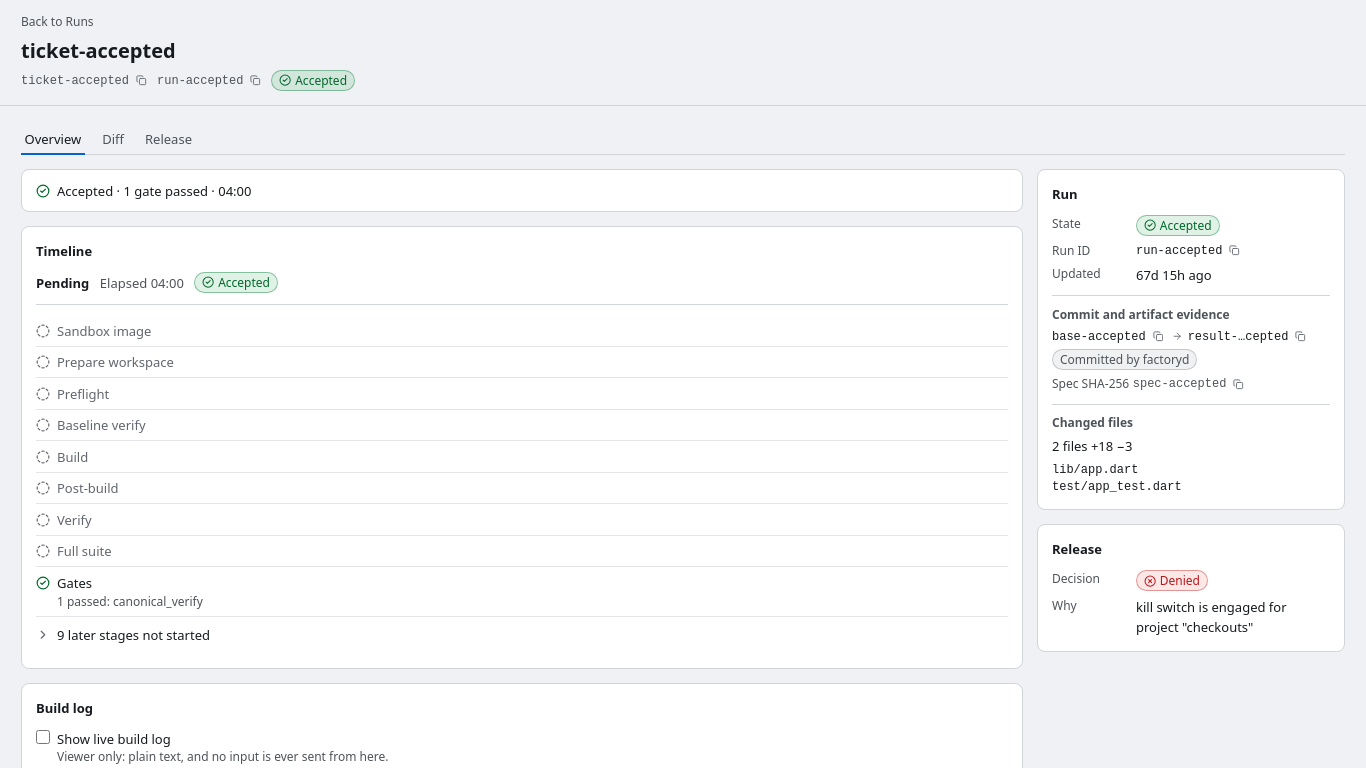
Test: run detail screen navigates to the release view
This screenshot has width=1366, height=768.
Expected: the text "Denied" is shown, [1136,570,1208,591]
Click the tab "Release". click: x=168, y=140
box: [142,124,196,155]
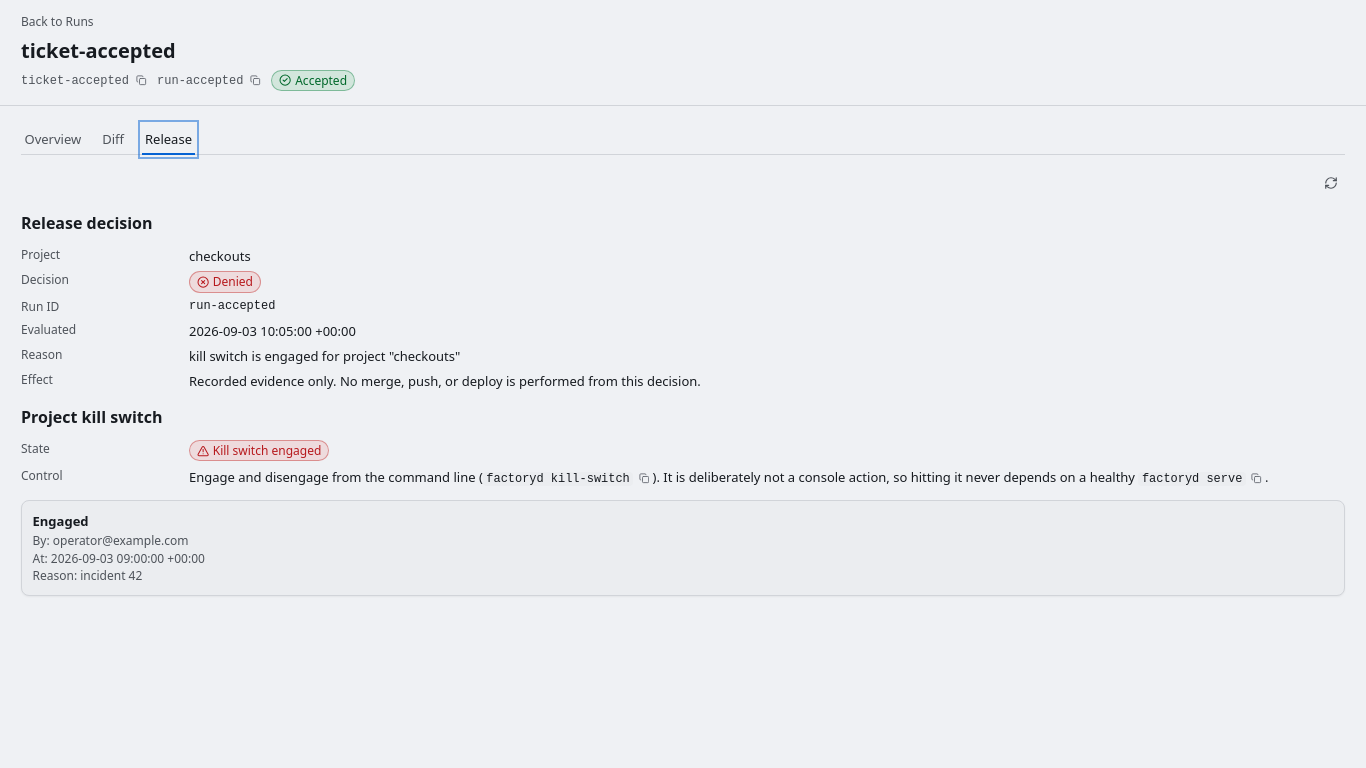
Expected: the text "Denied" is shown, [189,271,261,292]
Now the text "Kill switch engaged" is shown, box [189,440,329,461]
